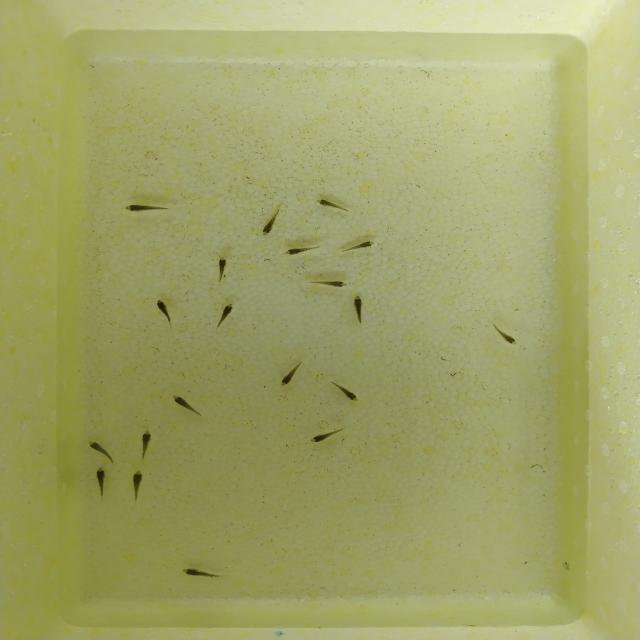fingerling: (164, 390, 205, 416), (82, 439, 119, 462), (333, 383, 367, 402), (150, 297, 178, 320), (180, 566, 220, 582), (135, 431, 158, 457), (274, 368, 305, 387), (344, 238, 386, 252), (492, 328, 524, 346), (129, 469, 150, 496), (306, 430, 346, 444), (219, 301, 243, 323), (91, 468, 112, 493), (261, 211, 280, 238), (308, 280, 358, 289), (279, 244, 316, 256), (313, 197, 347, 210), (352, 294, 368, 318), (216, 257, 231, 280), (126, 203, 162, 212)
